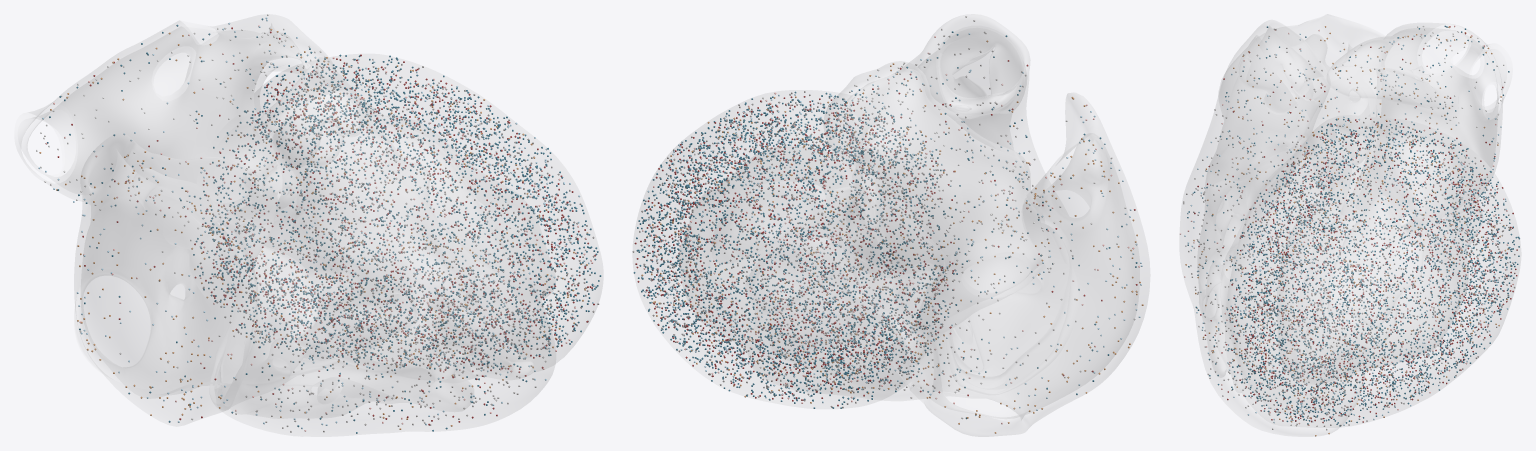
File: 3d-vh-f-heart-UBERON_0000948-all-as-celltypist-sphere-hra-pop.glb
The picture shows the model from 3 angles, left to right: view 1: azimuth 30°, elevation 25°; view 2: azimuth 150°, elevation 25°; view 3: azimuth 270°, elevation 25°; orthographic projection. The views are drawn at different scales.
Visible parts, largest first — view 1: VH_F_right_ventricle, VH_F_right_cardiac_atrium, VH_F_left_cardiac_atrium, VH_F_left_ventricle, VH_F_tricuspid_valve, VH_F_aortic_valve, VH_F_pulmonary_valve, VH_F_papillary_muscle_of_heart_ant; view 2: VH_F_left_ventricle, VH_F_right_cardiac_atrium, VH_F_left_cardiac_atrium, VH_F_right_ventricle, VH_F_tricuspid_valve, VH_F_mitral_valve, VH_F_pulmonary_valve, VH_F_papillary_muscle_of_heart_antlat, VH_F_papillary_muscle_of_heart_posmed, VH_F_interventricular_septum; view 3: VH_F_left_ventricle, VH_F_right_ventricle, VH_F_left_cardiac_atrium, VH_F_papillary_muscle_of_heart_antlat, VH_F_right_cardiac_atrium, VH_F_aortic_valve, VH_F_mitral_valve, VH_F_interventricular_septum, VH_F_pulmonary_valve, VH_F_papillary_muscle_of_heart_posmed.
Part boxes in pixels (x1=…): VH_F_right_ventricle: x1=210, y1=58, x2=555, y2=436; VH_F_right_cardiac_atrium: x1=74, y1=133, x2=277, y2=426; VH_F_left_cardiac_atrium: x1=18, y1=14, x2=335, y2=237; VH_F_left_ventricle: x1=254, y1=54, x2=602, y2=371; VH_F_tricuspid_valve: x1=215, y1=246, x2=336, y2=405; VH_F_aortic_valve: x1=204, y1=112, x2=297, y2=225; VH_F_pulmonary_valve: x1=271, y1=92, x2=363, y2=170; VH_F_papillary_muscle_of_heart_ant: x1=369, y1=318, x2=456, y2=372; VH_F_left_ventricle: x1=633, y1=90, x2=911, y2=408; VH_F_right_cardiac_atrium: x1=891, y1=93, x2=1149, y2=436; VH_F_left_cardiac_atrium: x1=824, y1=61, x2=1045, y2=341; VH_F_right_ventricle: x1=748, y1=14, x2=1067, y2=400; VH_F_tricuspid_valve: x1=951, y1=232, x2=1068, y2=375; VH_F_mitral_valve: x1=826, y1=196, x2=944, y2=308; VH_F_pulmonary_valve: x1=939, y1=28, x2=1026, y2=118; VH_F_papillary_muscle_of_heart_antlat: x1=712, y1=182, x2=825, y2=263; VH_F_papillary_muscle_of_heart_posmed: x1=746, y1=238, x2=835, y2=314; VH_F_interventricular_septum: x1=756, y1=187, x2=904, y2=391; VH_F_left_ventricle: x1=1225, y1=115, x2=1520, y2=427; VH_F_right_ventricle: x1=1180, y1=20, x2=1364, y2=436; VH_F_left_cardiac_atrium: x1=1327, y1=23, x2=1506, y2=217; VH_F_papillary_muscle_of_heart_antlat: x1=1328, y1=196, x2=1422, y2=327; VH_F_right_cardiac_atrium: x1=1219, y1=14, x2=1482, y2=249; VH_F_aortic_valve: x1=1300, y1=82, x2=1376, y2=165; VH_F_mitral_valve: x1=1356, y1=154, x2=1437, y2=237; VH_F_interventricular_septum: x1=1221, y1=140, x2=1354, y2=412; VH_F_pulmonary_valve: x1=1238, y1=37, x2=1297, y2=114; VH_F_papillary_muscle_of_heart_posmed: x1=1305, y1=291, x2=1396, y2=362.
Size of the model in its own units: 0.1425 by 0.11 by 0.1015.
